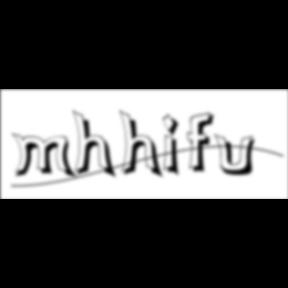f: (188, 111, 220, 175)
h: (72, 108, 119, 182), (120, 108, 166, 182)
i: (162, 112, 186, 180)
m: (11, 132, 79, 181)
u: (214, 132, 262, 178)
